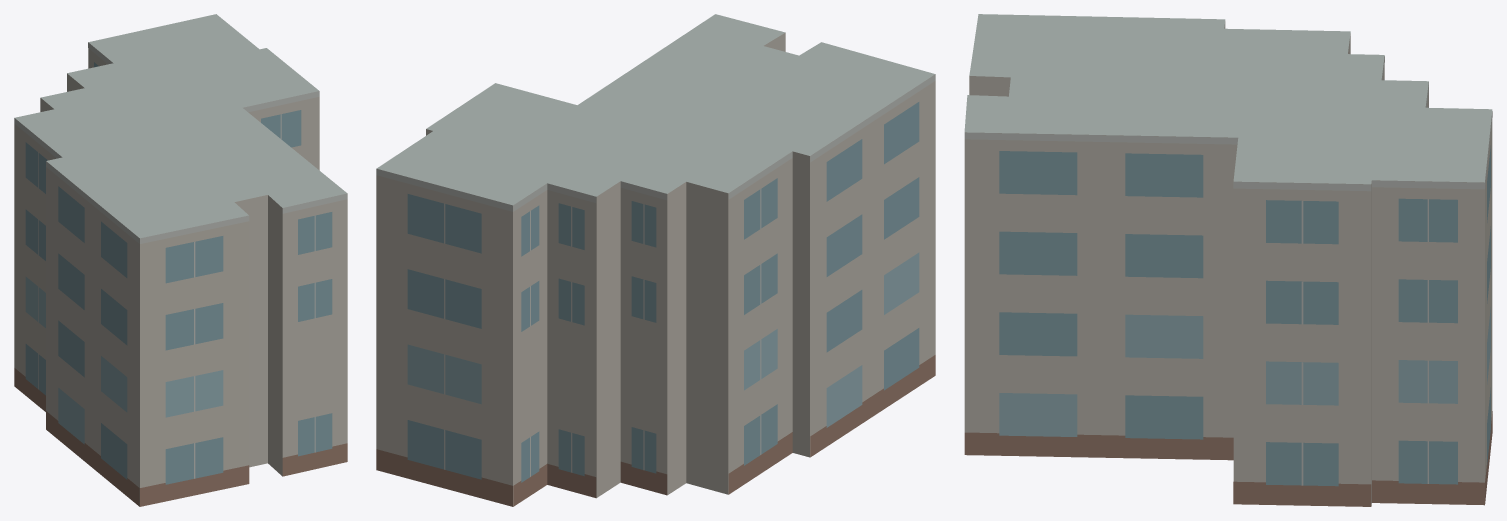
Rendered from survey-upis-32560054.glb.
3 renders of one model, left to right at view 1: azimuth 30°, elevation 25°; view 2: azimuth 150°, elevation 25°; view 3: azimuth 270°, elevation 25°, orthographic. The views are drawn at different scales.
Visible parts, largest first — view 1: survey-upis-32560054.tmp; view 2: survey-upis-32560054.tmp; view 3: survey-upis-32560054.tmp.
Part boxes in pixels (box(x1,y1,x2,y2)): survey-upis-32560054.tmp: box(14, 14, 347, 506); survey-upis-32560054.tmp: box(376, 14, 935, 506); survey-upis-32560054.tmp: box(964, 14, 1492, 506).
Size of the model in its own units: 12.8 by 11.3 by 16.77.
